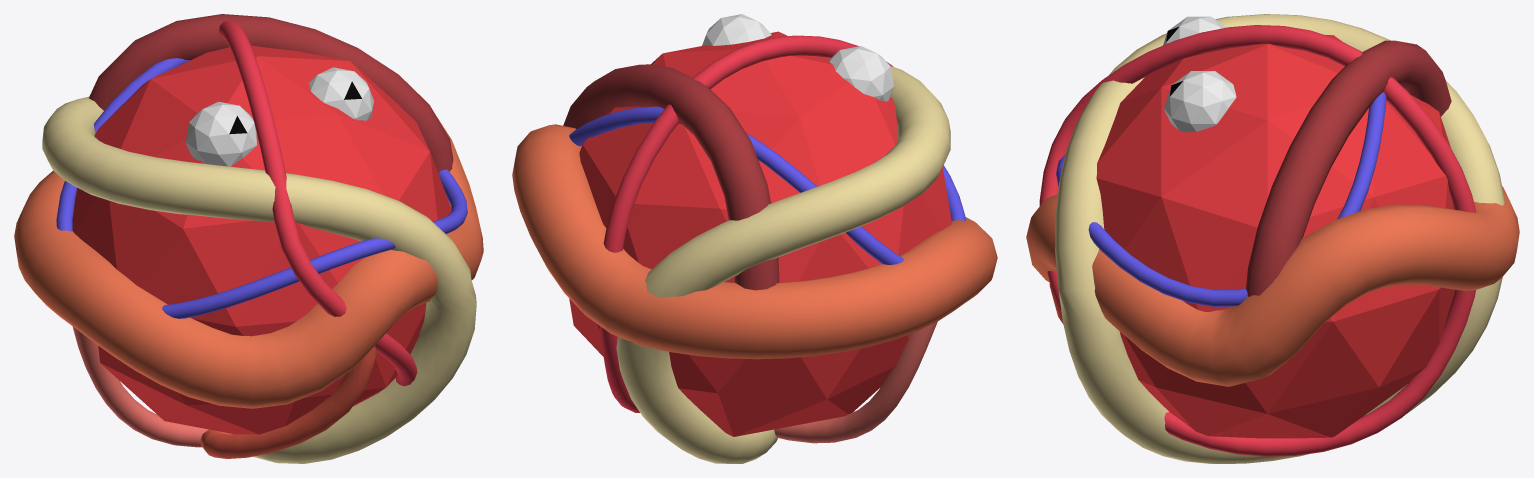
The model's file is tumblebleed.fbx.
The picture shows the model from 3 angles, left to right: view 1: azimuth 30°, elevation 25°; view 2: azimuth 150°, elevation 25°; view 3: azimuth 270°, elevation 25°; orthographic projection. The views are drawn at different scales.
Parts seen in each view (by area): view 1: Icosphere, BezierCircle, BezierCircle.003, BezierCurve, BezierCircle.001, BezierCircle.002, BezierCurve.002, BezierCurve.001, Icosphere.002, Icosphere.001; view 2: Icosphere, BezierCircle, BezierCircle.003, BezierCurve, BezierCircle.001, BezierCurve.001, BezierCircle.002, Icosphere.002, Icosphere.001; view 3: Icosphere, BezierCircle, BezierCircle.003, BezierCircle.001, BezierCurve, BezierCircle.002, Icosphere.001, Icosphere.002.
Part boxes in pixels (left/top/right/bottom): Icosphere: left=72, top=45, right=451, bottom=434; BezierCircle: left=14, top=116, right=483, bottom=408; BezierCircle.003: left=42, top=96, right=476, bottom=463; BezierCurve: left=89, top=14, right=453, bottom=172; BezierCircle.001: left=219, top=20, right=417, bottom=386; BezierCircle.002: left=56, top=58, right=467, bottom=318; BezierCurve.002: left=200, top=346, right=376, bottom=458; BezierCurve.001: left=72, top=326, right=208, bottom=447; Icosphere.002: left=185, top=101, right=256, bottom=166; Icosphere.001: left=309, top=67, right=373, bottom=120; Icosphere: left=569, top=31, right=951, bottom=436; BezierCircle: left=512, top=124, right=997, bottom=359; BezierCircle.003: left=616, top=66, right=950, bottom=463; BezierCurve: left=563, top=64, right=779, bottom=290; BezierCircle.001: left=600, top=35, right=893, bottom=412; BezierCurve.001: left=774, top=321, right=937, bottom=443; BezierCircle.002: left=569, top=106, right=965, bottom=264; Icosphere.002: left=829, top=46, right=893, bottom=101; Icosphere.001: left=702, top=14, right=771, bottom=45; Icosphere: left=1096, top=35, right=1454, bottom=438; BezierCircle: left=1026, top=186, right=1519, bottom=386; BezierCircle.003: left=1055, top=14, right=1504, bottom=463; BezierCircle.001: left=1039, top=25, right=1476, bottom=456; BezierCurve: left=1246, top=40, right=1451, bottom=296; BezierCircle.002: left=1056, top=92, right=1386, bottom=306; Icosphere.001: left=1164, top=71, right=1236, bottom=132; Icosphere.002: left=1163, top=16, right=1225, bottom=45.
Bounding box in the file's own units: 238 × 222 × 233.
